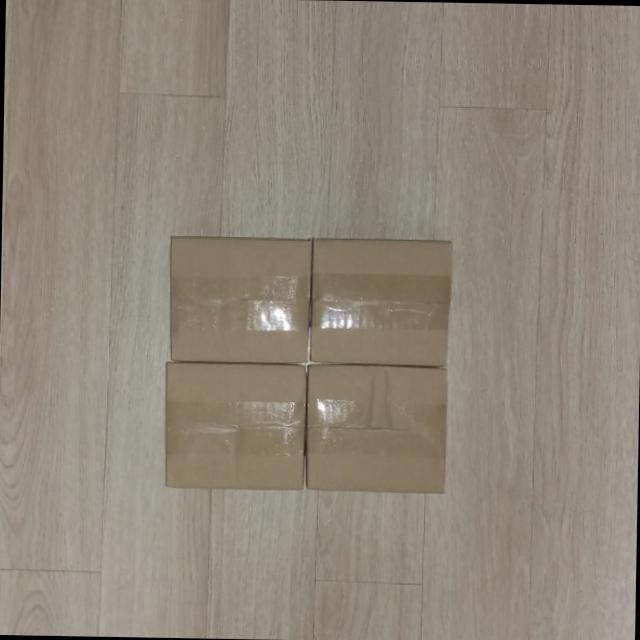box: (165, 231, 312, 368), (307, 234, 455, 370), (162, 358, 308, 494), (302, 364, 452, 494)
